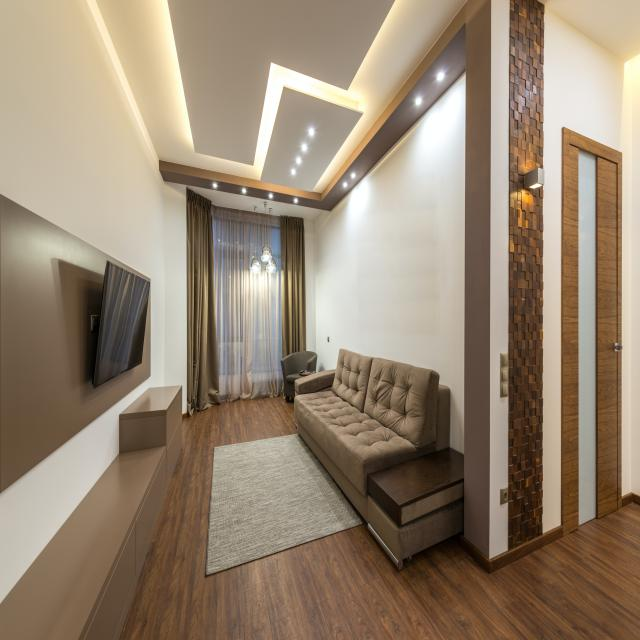floor: (120, 395, 640, 640)
wall: (490, 0, 635, 574), (315, 71, 465, 455), (0, 194, 151, 494), (508, 0, 545, 550), (463, 0, 491, 574), (91, 260, 150, 388), (164, 181, 188, 419), (304, 219, 316, 353)
